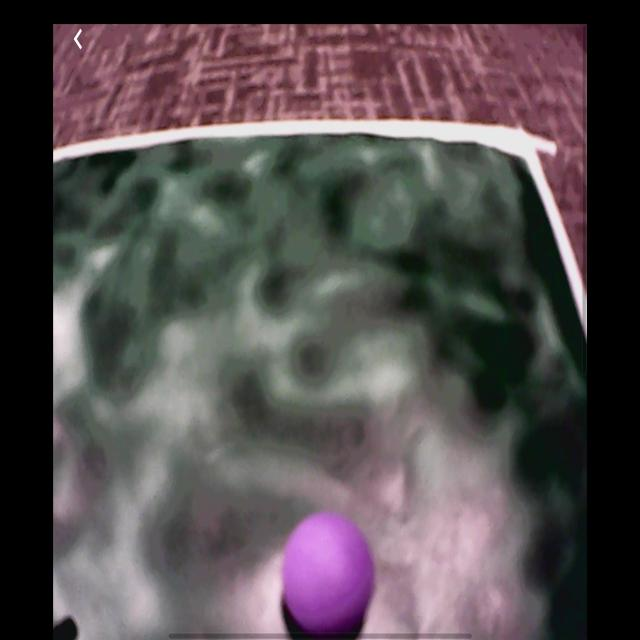ball: (281, 510, 376, 638)
